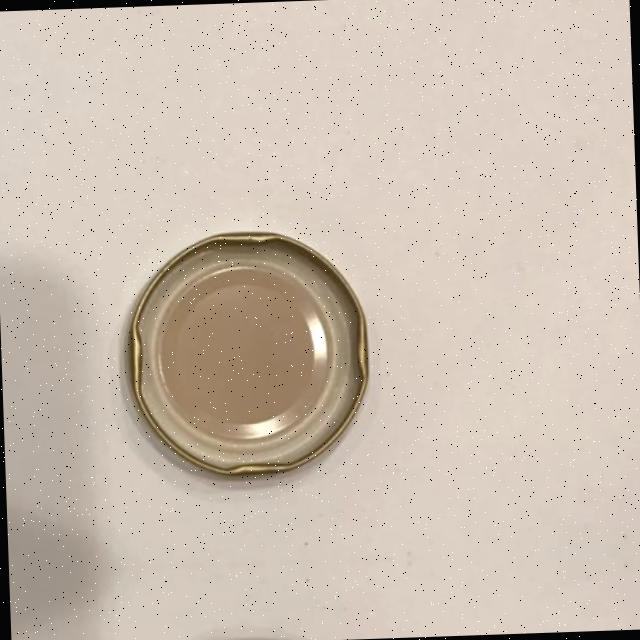Metal: (114, 204, 384, 491), (129, 634, 389, 640)
